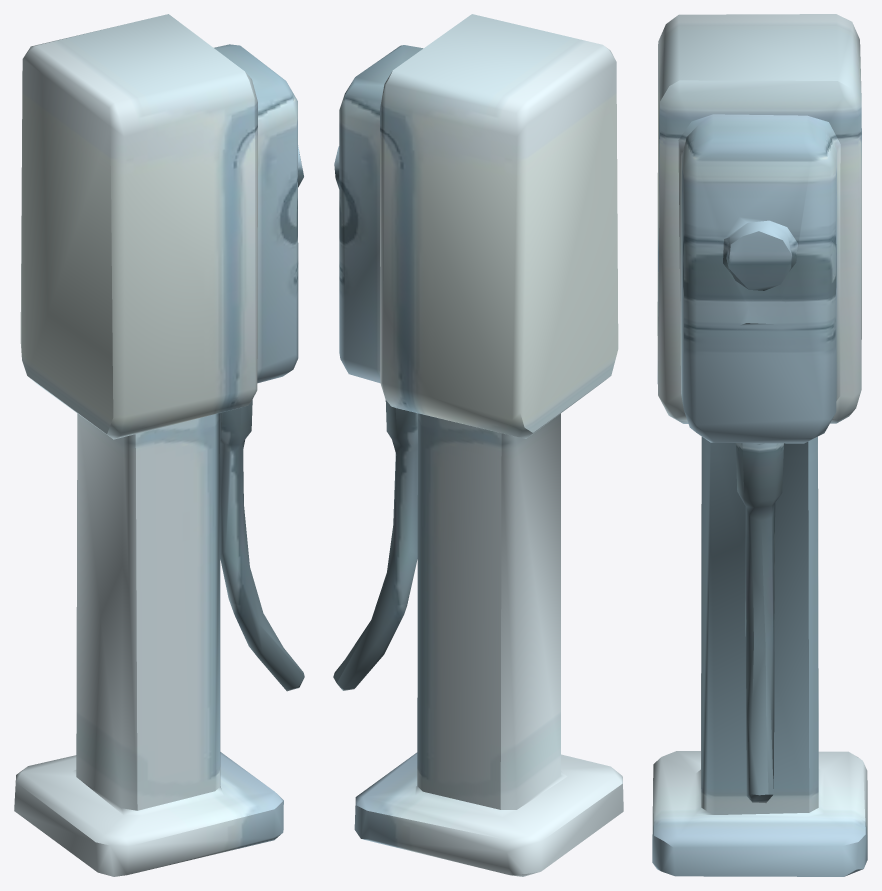
3 renders of one model, left to right at view 1: azimuth 30°, elevation 25°; view 2: azimuth 150°, elevation 25°; view 3: azimuth 270°, elevation 25°, orthographic.
Visible parts, largest first — view 1: Decor_ev_charger; view 2: Decor_ev_charger; view 3: Decor_ev_charger.
Boxes of the visible parts, bbox=[...] form: Decor_ev_charger: bbox=[14, 14, 304, 876]; Decor_ev_charger: bbox=[333, 14, 623, 876]; Decor_ev_charger: bbox=[652, 14, 867, 876].
Size of the model in its own units: 0.5068 by 1.5 by 0.3746.
1 material, 1 textured.
